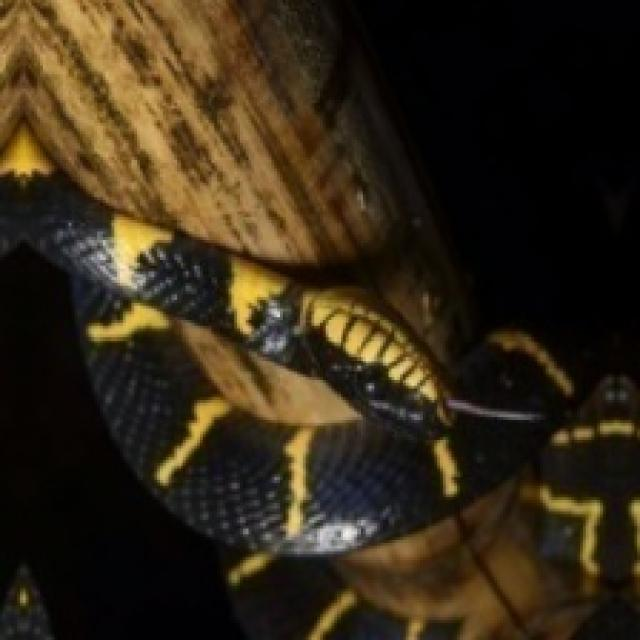mangrove cat snake: (0, 136, 640, 640)
